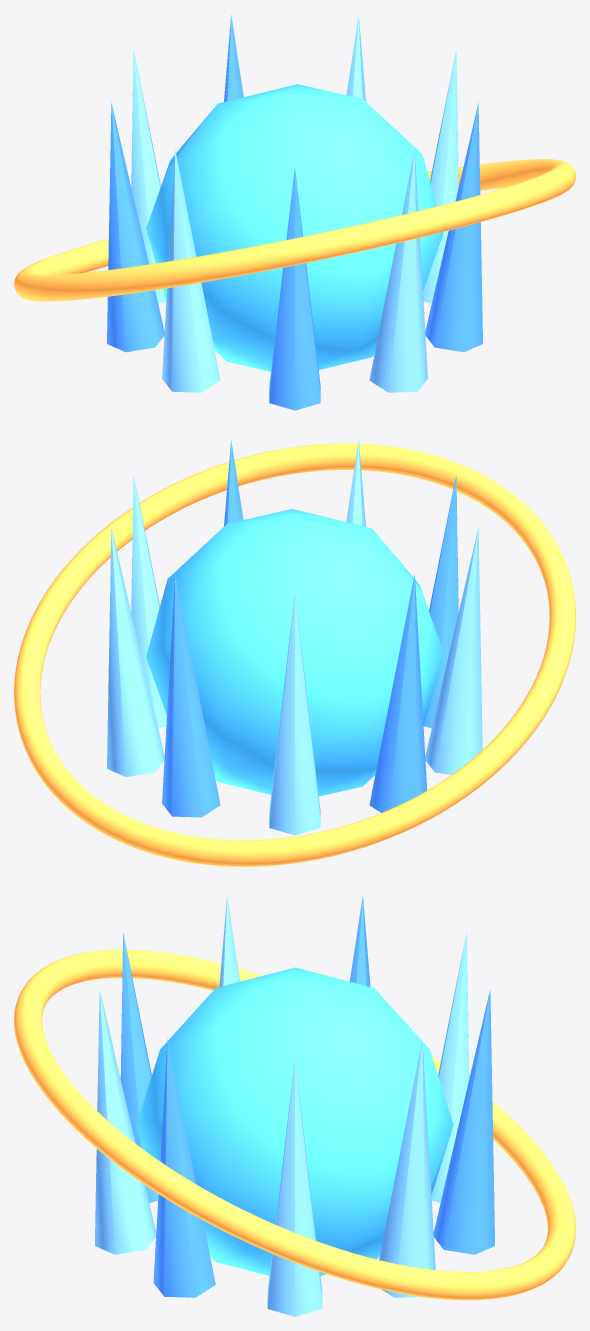
Rendered from crystal-bloom.glb.
The picture shows the model from 3 angles, top to bottom: view 1: azimuth 30°, elevation 25°; view 2: azimuth 150°, elevation 25°; view 3: azimuth 270°, elevation 25°; orthographic projection. The views are drawn at different scales.
Visible parts, largest first — view 1: core, CrystalBloom, ring; view 2: core, CrystalBloom, ring; view 3: core, CrystalBloom, ring.
Boxes of the visible parts, <box> form: core: <box>146,84,443,371</box>; CrystalBloom: <box>107,15,482,410</box>; ring: <box>14,159,575,301</box>; core: <box>146,509,443,796</box>; CrystalBloom: <box>107,440,482,835</box>; ring: <box>14,443,575,866</box>; core: <box>136,967,453,1275</box>; CrystalBloom: <box>95,895,494,1316</box>; ring: <box>14,949,575,1300</box>.
Bounding box in the file's own units: 3.46 × 1.85 × 3.19.
